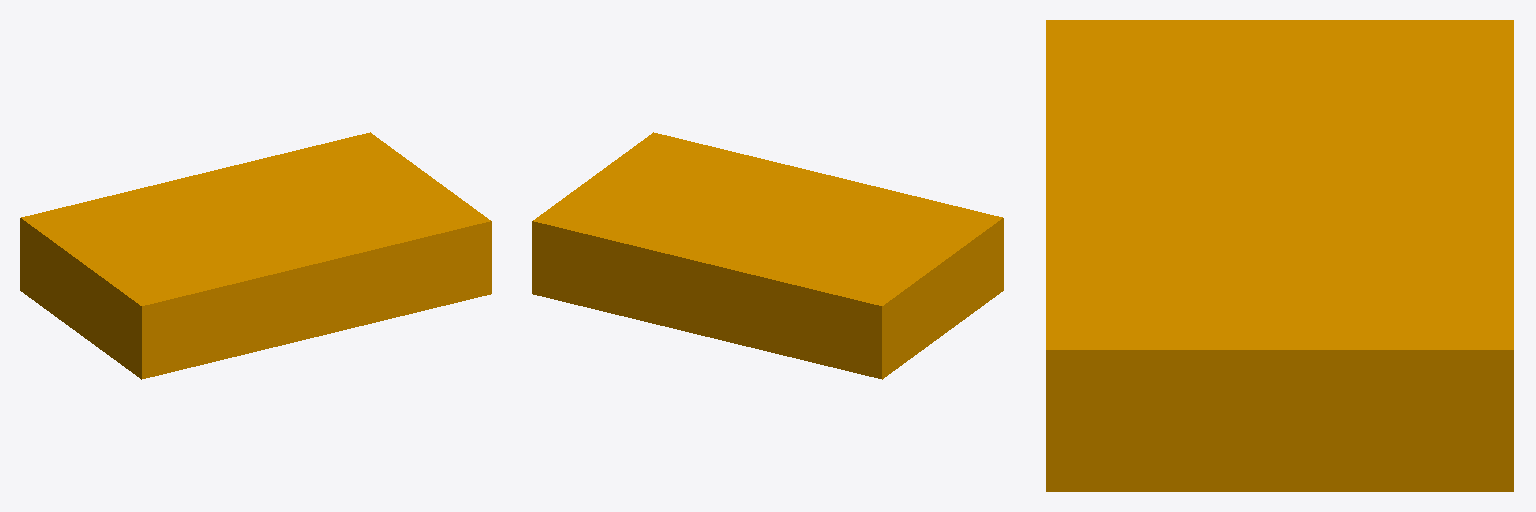
robot.urdf — simple_bot:
<?xml version="1.0"?>
<robot name="simple_bot">
  <link name="base_link">
    <visual>
      <geometry>
        <box size="0.5 0.3 0.1"/>
      </geometry>
    </visual>
    <collision>
      <geometry>
        <box size="0.5 0.3 0.1"/>
      </geometry>
    </collision>
  </link>
</robot>

--- What the picture shows (computed from the rendered views, not written in the file) ---
The picture shows the robot from 3 angles, left to right: view 1: azimuth 30°, elevation 25°; view 2: azimuth 150°, elevation 25°; view 3: azimuth 270°, elevation 25°; orthographic projection.
Robot: simple_bot — 1 links, 0 joints (none); root link base_link; default pose: every joint at zero.
Visible links, largest first — view 1: base_link; view 2: base_link; view 3: base_link.
Link boxes in pixels (x1,y1,x2,y2): base_link: (20, 132, 491, 379); base_link: (532, 132, 1003, 379); base_link: (1046, 20, 1513, 491).
Size in the robot's own frame: 0.5 by 0.3 by 0.1 metres.
Geometry: primitives only (box / cylinder / sphere), no mesh files.